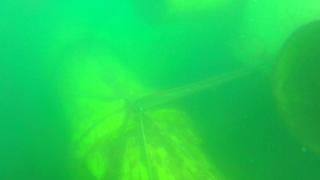pipe: (48, 36, 223, 180), (273, 20, 320, 154), (235, 1, 320, 68), (123, 1, 237, 20)
